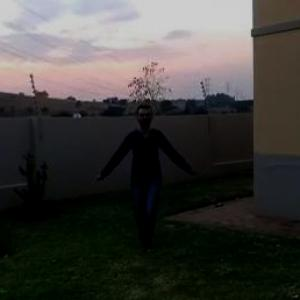land: (97, 106, 194, 244)
